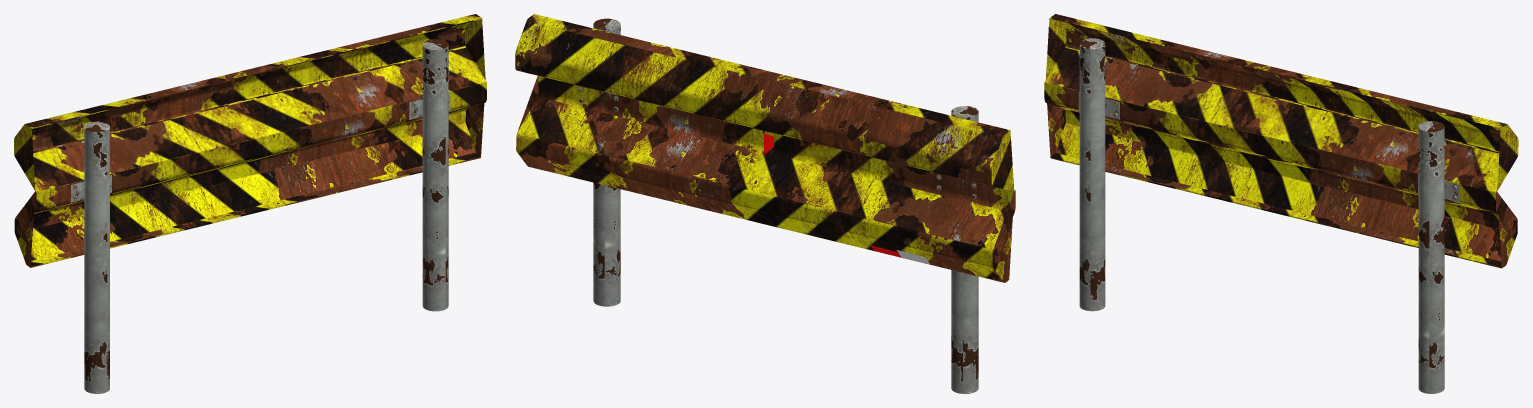
File: ograda_doroga_001.fbx
The picture shows the model from 3 angles, left to right: view 1: azimuth 30°, elevation 25°; view 2: azimuth 150°, elevation 25°; view 3: azimuth 330°, elevation 25°; orthographic projection. The views are drawn at different scales.
Parts seen in each view (by area): view 1: Cube.008; view 2: Cube.008; view 3: Cube.008.
Boxes of the visible parts, bbox=[...] form: Cube.008: bbox=[14, 14, 486, 393]; Cube.008: bbox=[515, 14, 1015, 393]; Cube.008: bbox=[1044, 14, 1518, 393].
Bounding box in the file's own units: 242 × 136 × 32.95.
1 material, 1 textured.
